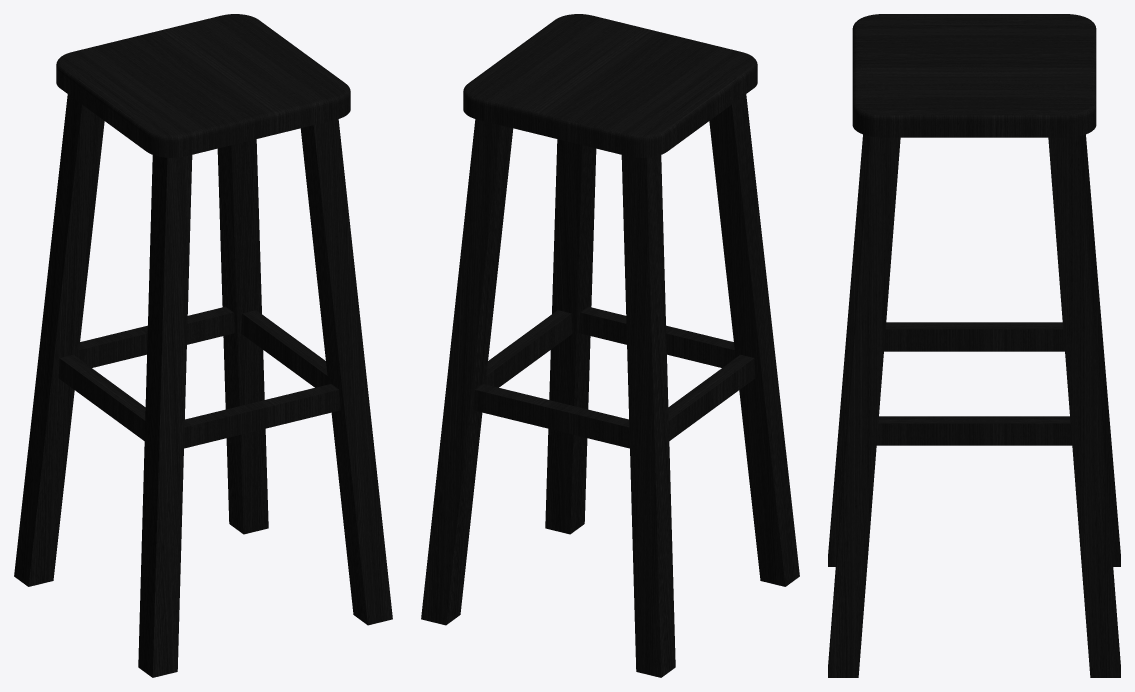
File: Stool.fbx
The picture shows the model from 3 angles, left to right: view 1: azimuth 30°, elevation 25°; view 2: azimuth 150°, elevation 25°; view 3: azimuth 270°, elevation 25°; orthographic projection. The views are drawn at different scales.
Parts seen in each view (by area): view 1: Stool; view 2: Stool; view 3: Stool.
Part boxes in pixels (x1=…): Stool: x1=14, y1=14, x2=392, y2=677; Stool: x1=421, y1=14, x2=799, y2=677; Stool: x1=828, y1=14, x2=1120, y2=677.
Bounding box in the file's own units: 36.73 × 76.44 × 36.73.
Materials: 1 (1 with a texture image).
